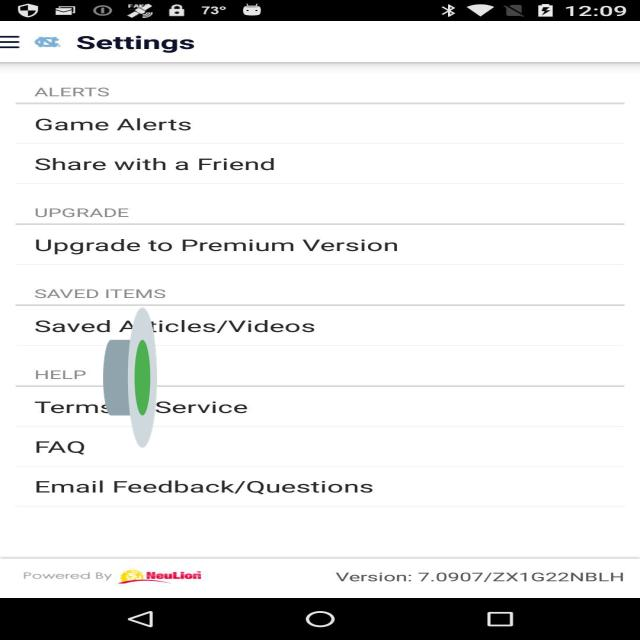social proof: (103, 248, 157, 507)
